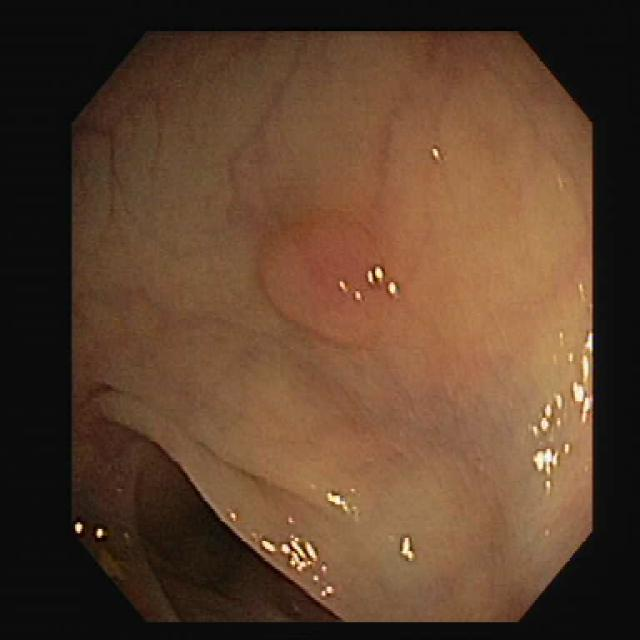tumor: (258, 213, 388, 340)
